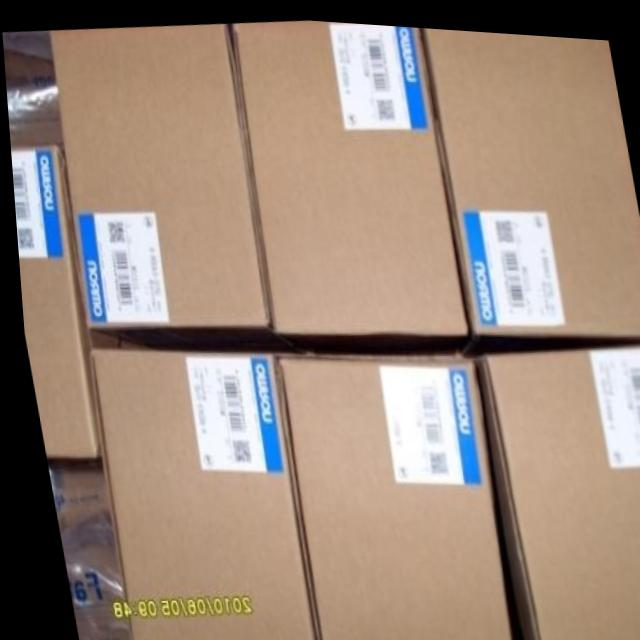box: (48, 20, 285, 346), (230, 17, 464, 324), (268, 349, 503, 640), (422, 22, 640, 327), (84, 348, 306, 640), (469, 332, 640, 640), (8, 142, 97, 462), (41, 456, 120, 640), (3, 49, 59, 154)
